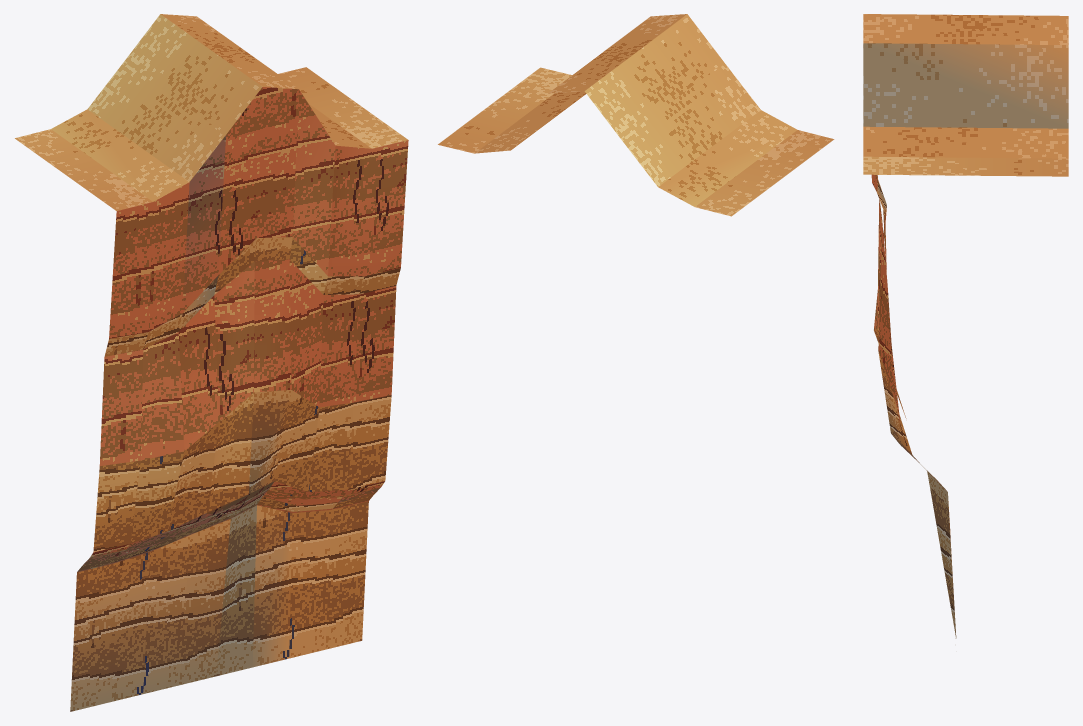
File: wland.canyon_wall__tall.glb
3 views of the same model, side by side, from view 1: azimuth 30°, elevation 25°; view 2: azimuth 150°, elevation 25°; view 3: azimuth 270°, elevation 25° (orthographic).
Visible parts, largest first — view 1: kit_shell_face, kit_shell_cap; view 2: kit_shell_cap; view 3: kit_shell_cap, kit_shell_face.
Part boxes in pixels (x1,y1,x2,y2): kit_shell_face: (70,87,408,711); kit_shell_cap: (15,14,407,210); kit_shell_cap: (438,14,834,216); kit_shell_cap: (863,14,1068,176); kit_shell_face: (871,174,956,638).
Size of the model in its own units: 8 by 16.32 by 4.85.
3 materials, 3 textured.
